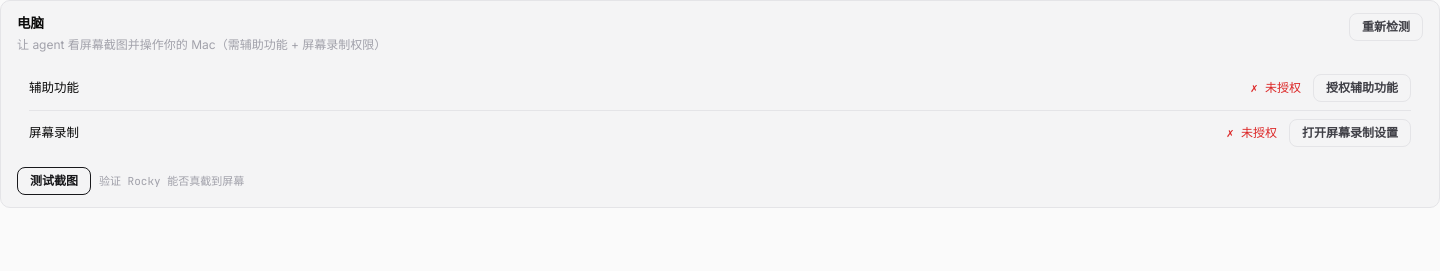
Test case: SectionComputerConnector — 测试截图 › 点「测试截图」失败 → 显示 error reason，不渲染缩略图
Step 1. Click the button "测试截图" → (54, 181), box [17, 167, 91, 195]
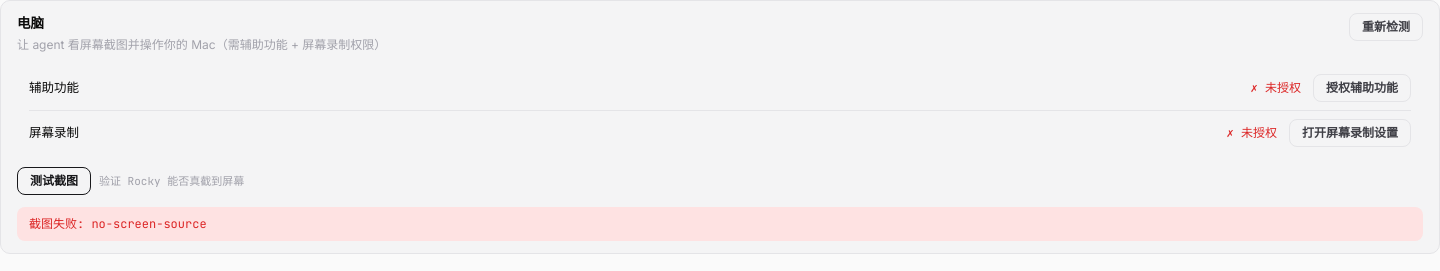
expect the text "截图失败: no-screen-source" is shown: met, box [17, 207, 1423, 241]
